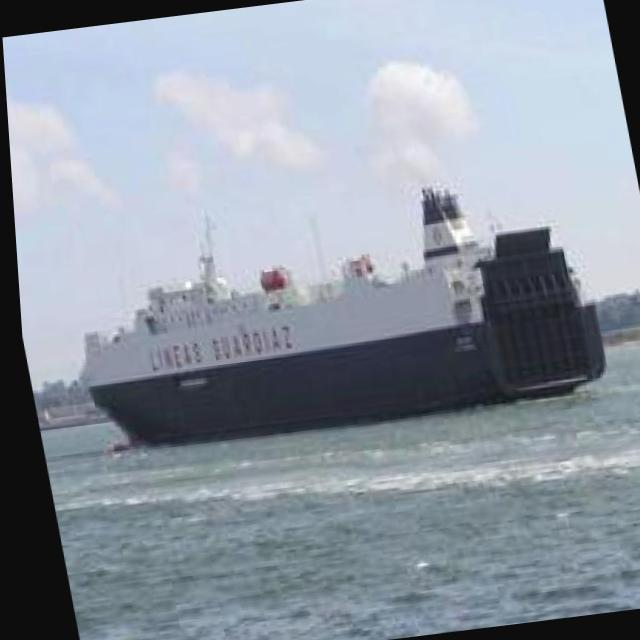ship2: (77, 186, 603, 455)
